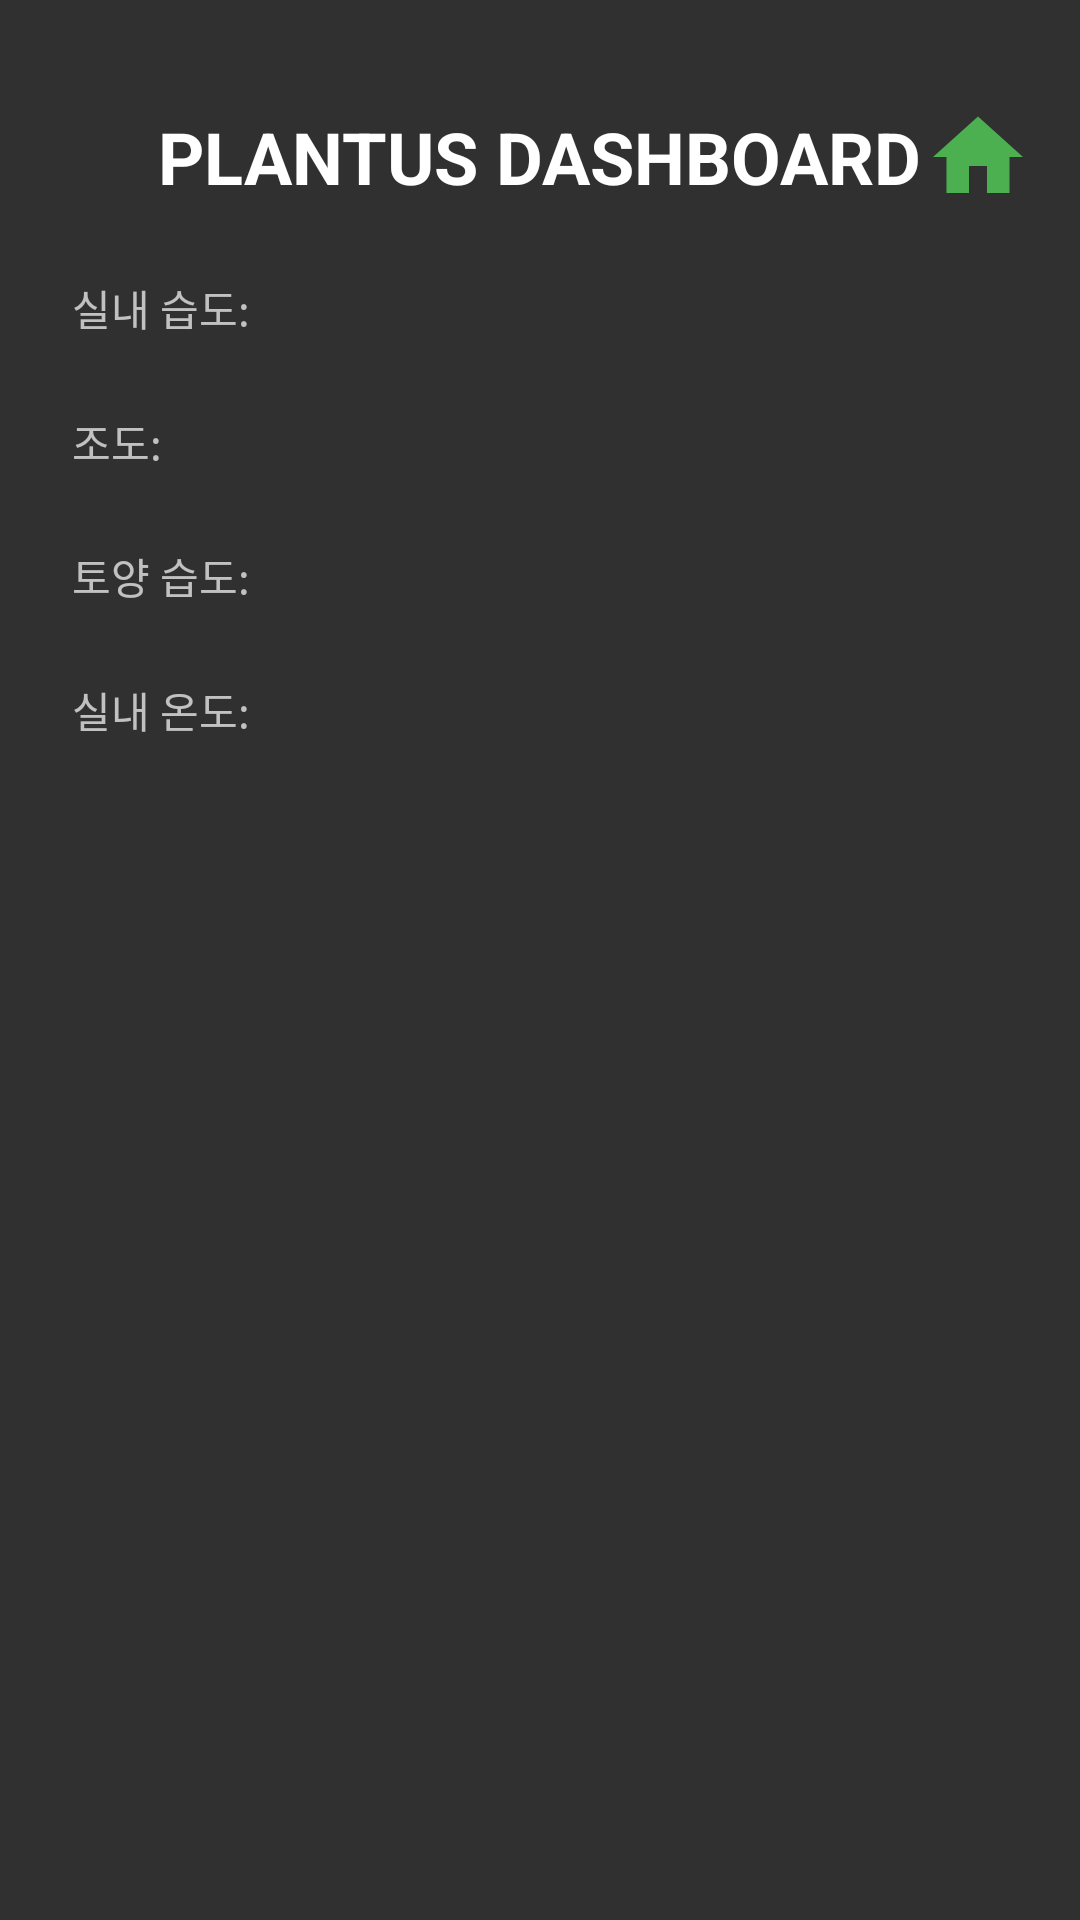

Named icons in this screenshot (1080 x 1920) and their centers, point (x, y):
home: point (978, 155)
